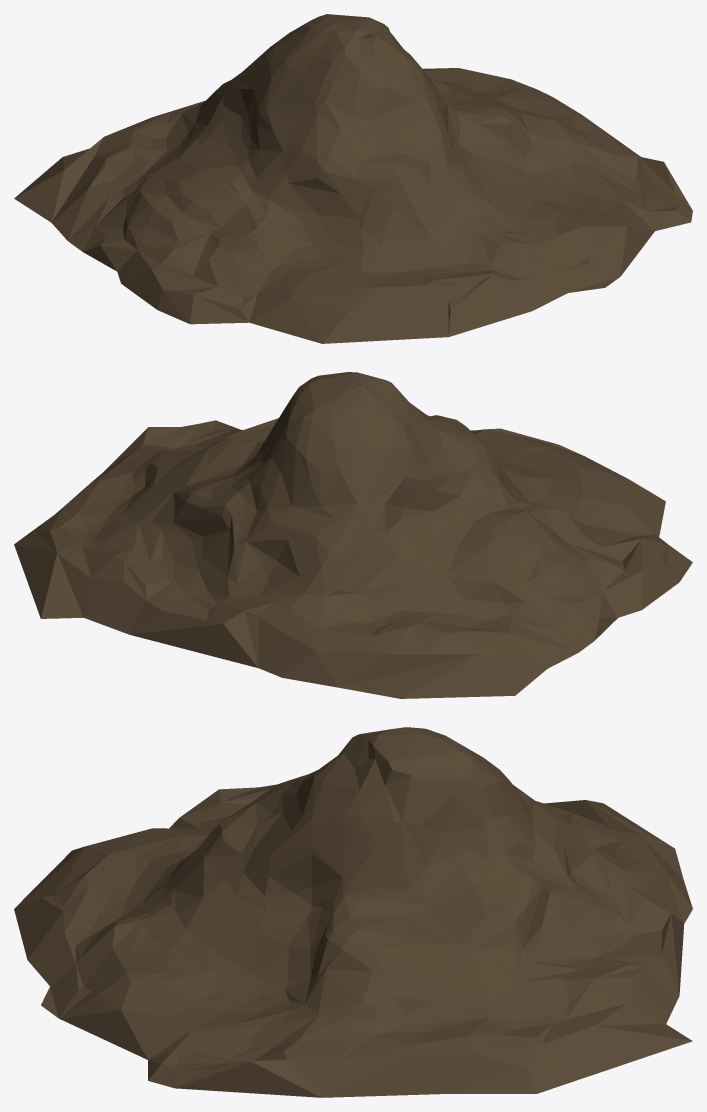
Rendered from hill.glb.
3 renders of one model, top to bottom at view 1: azimuth 30°, elevation 25°; view 2: azimuth 150°, elevation 25°; view 3: azimuth 270°, elevation 25°, orthographic. The views are drawn at different scales.
Parts seen in each view (by area): view 1: SM_Env_Hill_01; view 2: SM_Env_Hill_01; view 3: SM_Env_Hill_01.
Part boxes in pixels (<box>): SM_Env_Hill_01: <box>14,14,692,343</box>; SM_Env_Hill_01: <box>14,372,692,698</box>; SM_Env_Hill_01: <box>14,727,692,1097</box>.
Size of the model in its own units: 1359 by 445 by 1306.
1 material, 1 textured.
